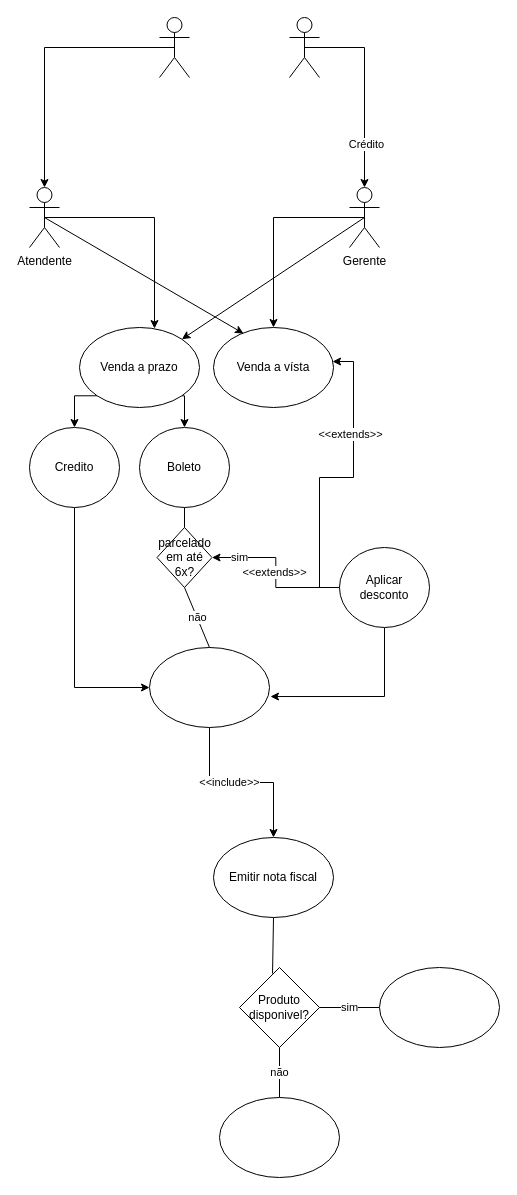
Some shapes in this 517 by 1195 pixel diagram are drawn without their labels. Each missing label, with the box of its shape:
Cliente 1: (158, 16, 190, 78)
Cliente 2: (288, 16, 320, 78)
Confirmar pagamento: (148, 646, 270, 728)
Retirar sistema: (218, 1096, 340, 1178)
solicitar entrega pelo sistema: (378, 966, 500, 1048)
